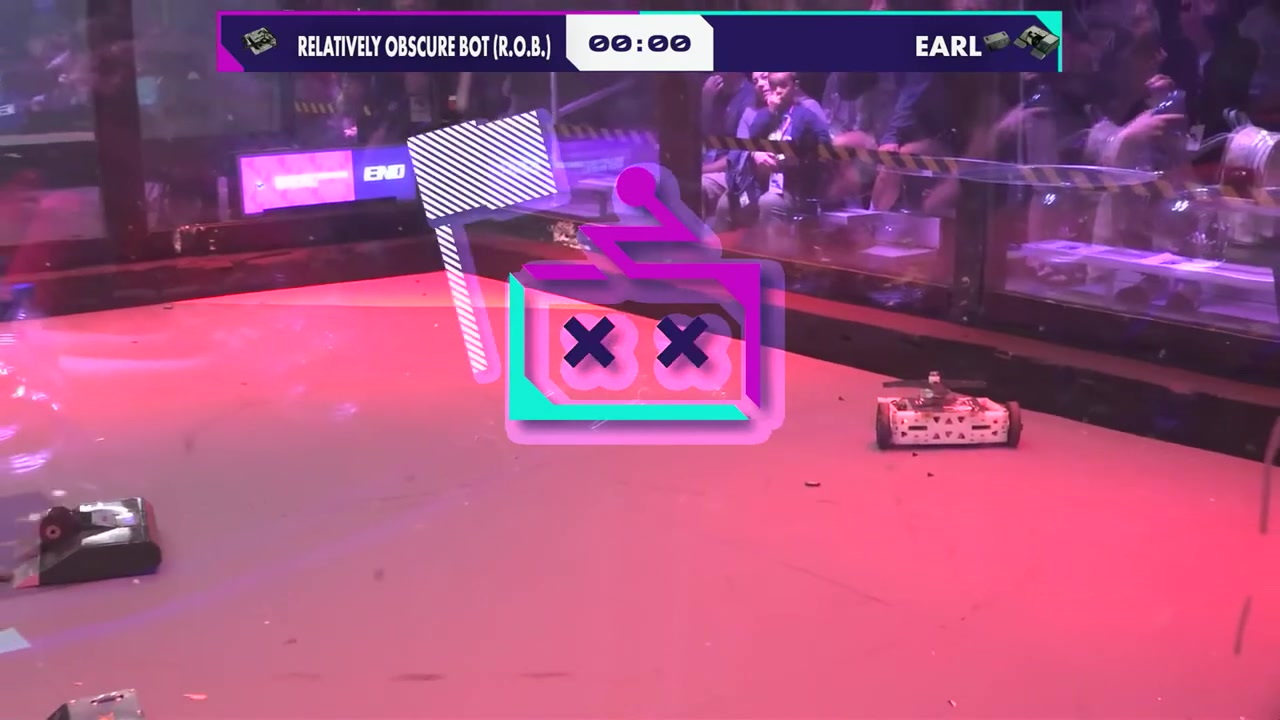combatbot: (4, 496, 163, 597), (870, 374, 1023, 454), (46, 691, 148, 720)
